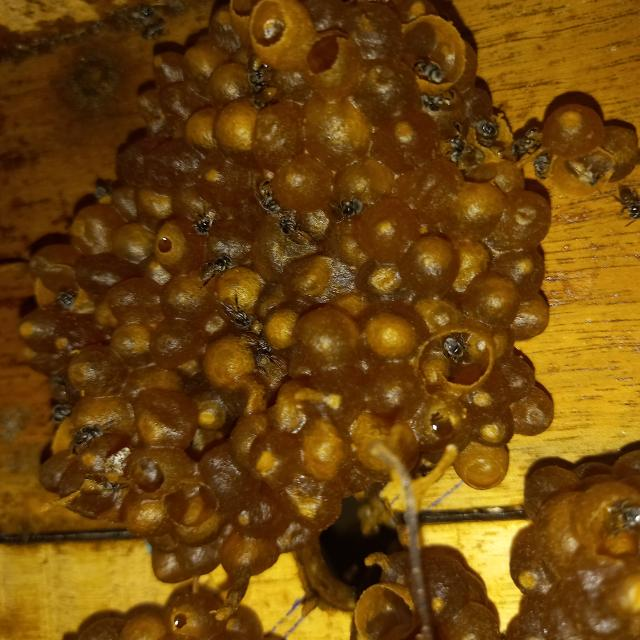honeybee: (615, 182, 640, 225), (411, 55, 448, 83), (72, 427, 104, 455), (470, 120, 499, 143)
